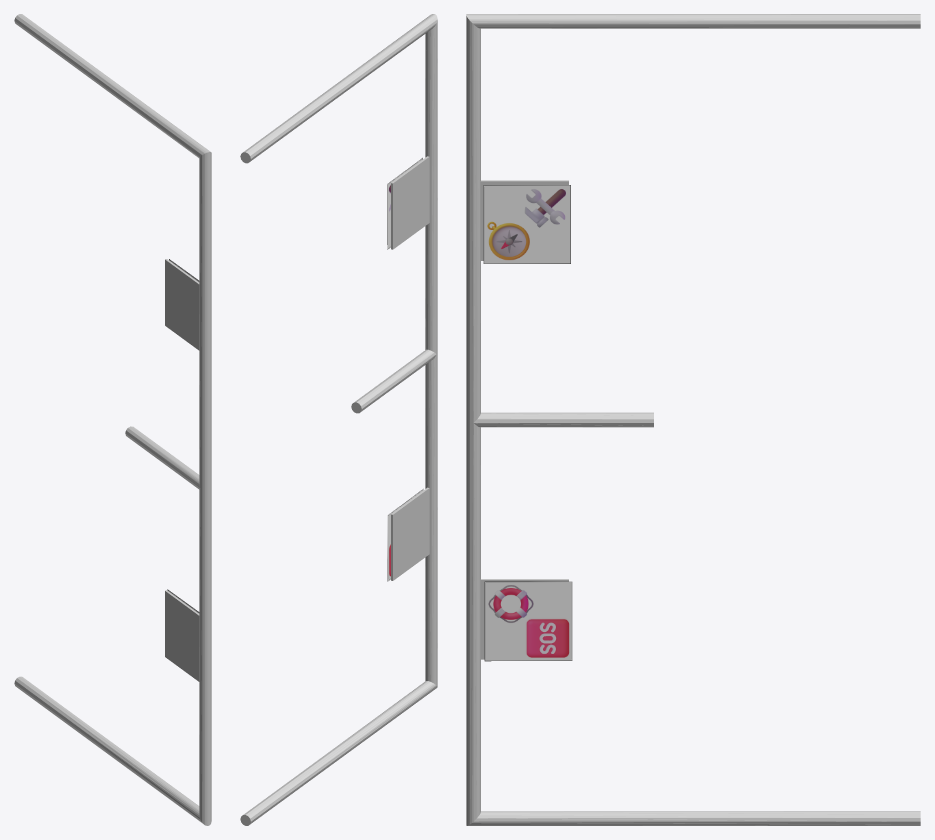
3 views of the same model, side by side, from view 1: azimuth 30°, elevation 25°; view 2: azimuth 150°, elevation 25°; view 3: azimuth 270°, elevation 25° (orthographic). The views are drawn at different scales.
Parts seen in each view (by area): view 1: base_link; view 2: base_link; view 3: base_link, Task1_SearchRescue_Fixed, Task1_SurveyRepair_Fixed.
Part boxes in pixels (x1=…): base_link: x1=14, y1=14, x2=211, y2=825; base_link: x1=240, y1=14, x2=437, y2=825; base_link: x1=466, y1=14, x2=920, y2=825; Task1_SearchRescue_Fixed: x1=484, y1=581, x2=572, y2=661; Task1_SurveyRepair_Fixed: x1=483, y1=185, x2=570, y2=263.
Bounding box in the file's own units: 0.0508 × 3.1 × 1.57.
3 materials, 2 textured.
